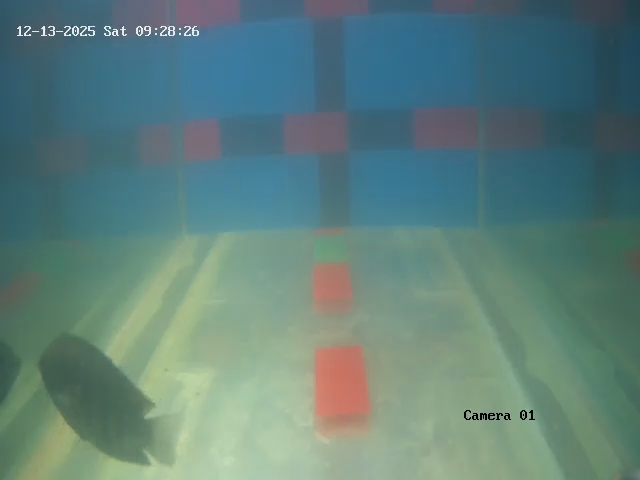fish: (27, 321, 170, 461)
